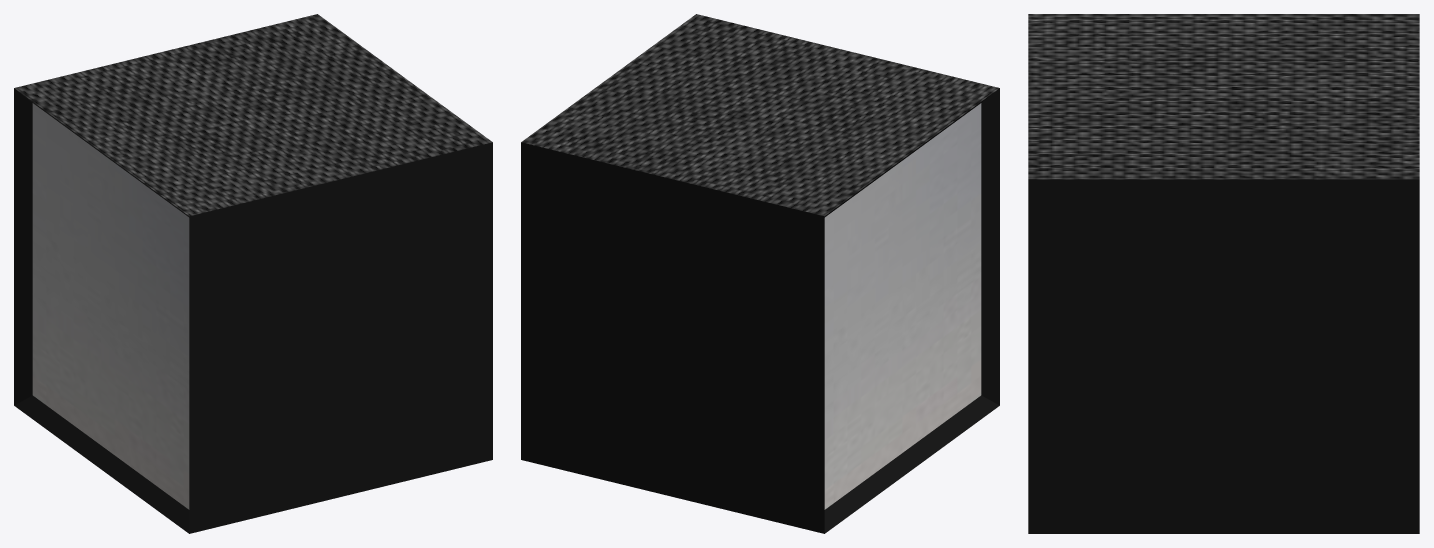
File: chair.glb
3 renders of one model, left to right at view 1: azimuth 30°, elevation 25°; view 2: azimuth 150°, elevation 25°; view 3: azimuth 270°, elevation 25°, orthographic. The views are drawn at different scales.
Visible parts, largest first — view 1: Cube; view 2: Cube; view 3: Cube.
Part boxes in pixels (<box>): Cube: <box>14,14,492,533</box>; Cube: <box>521,14,999,533</box>; Cube: <box>1028,14,1419,533</box>.
Size of the model in its own units: 2 by 2 by 2.
3 materials, 2 textured.
